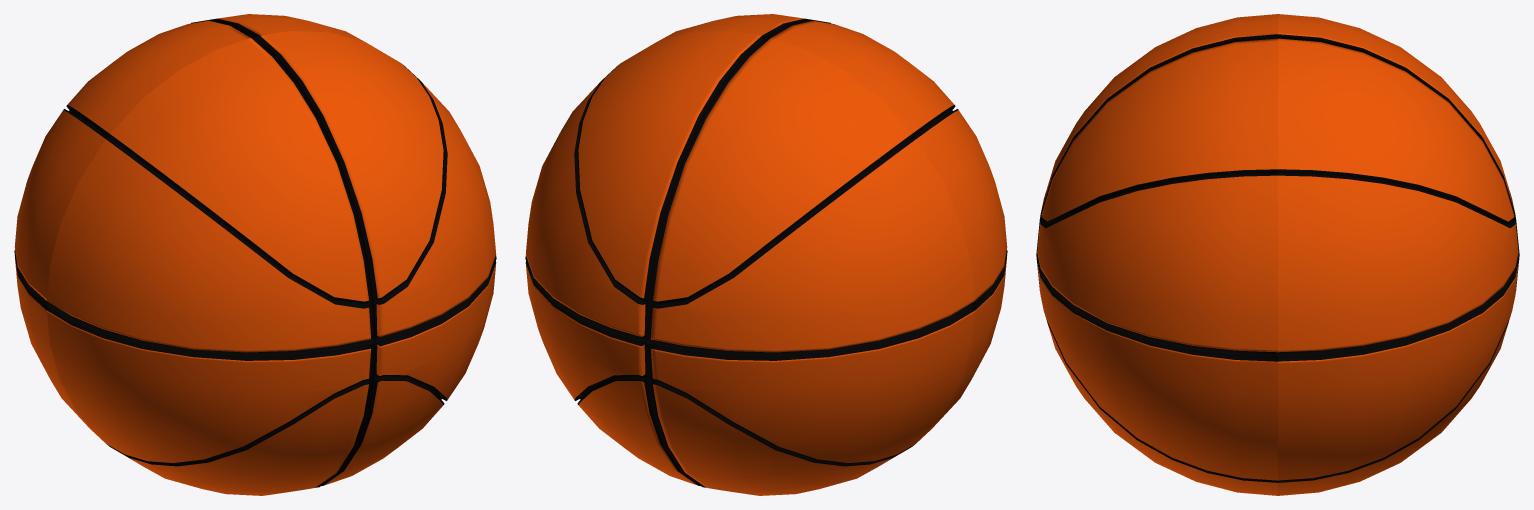
Rendered from ballonBasket.fbx.
3 renders of one model, left to right at view 1: azimuth 30°, elevation 25°; view 2: azimuth 150°, elevation 25°; view 3: azimuth 270°, elevation 25°, orthographic.
Parts seen in each view (by area): view 1: Balon_Basket; view 2: Balon_Basket; view 3: Balon_Basket.
Boxes of the visible parts, bbox=[...] form: Balon_Basket: bbox=[14, 14, 496, 495]; Balon_Basket: bbox=[525, 14, 1007, 495]; Balon_Basket: bbox=[1036, 14, 1519, 495].
Bounding box in the file's own units: 25.07 × 25.07 × 25.07.
